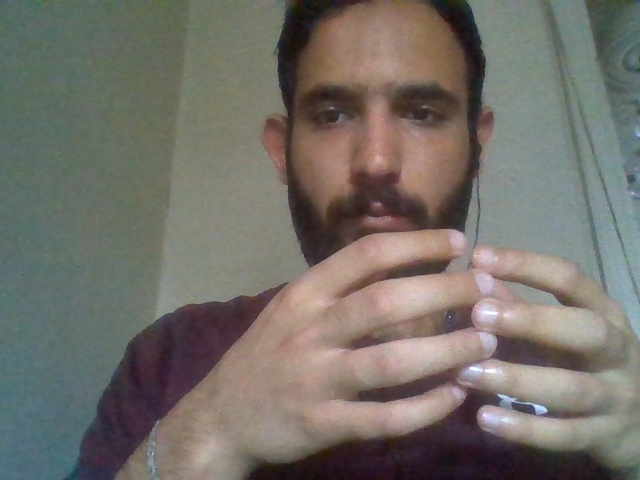Story: (281, 213, 622, 480)
